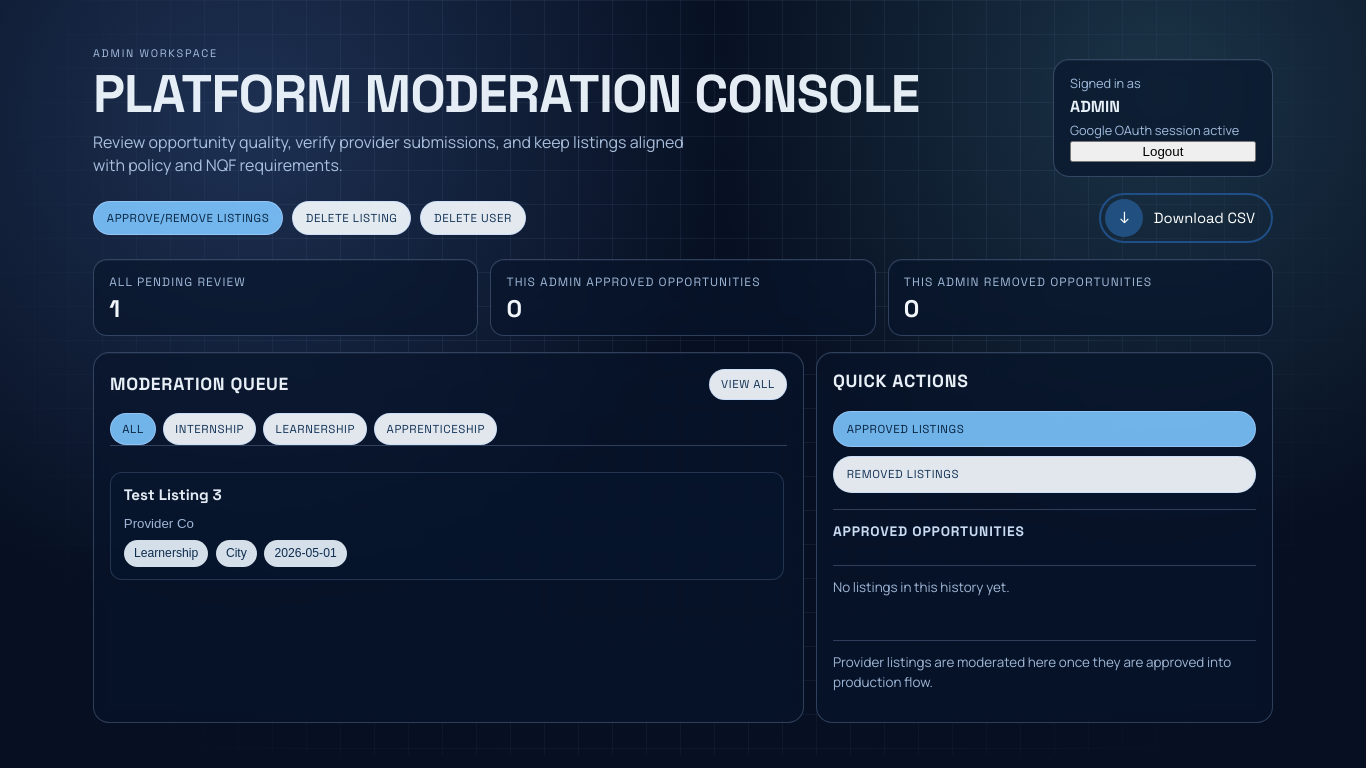
Test: Admin moderation queue TDD tests › 19. clicking outside modal (overlay) closes the modal
Note: Click on listing to open first modal
Step 1. Click the heading "Test Listing 3" → [173, 494], box left=124, top=485, right=222, bottom=504
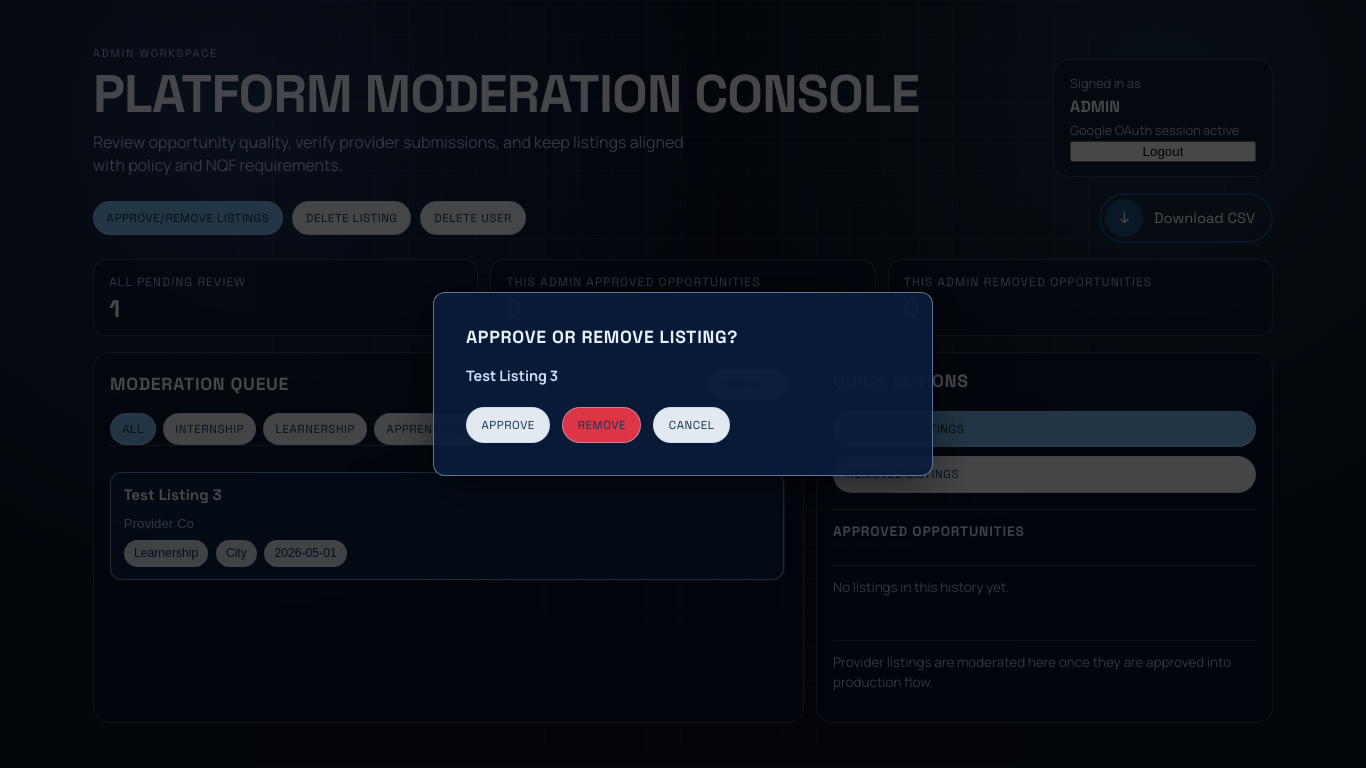
Expected: the text "Approve or Remove Listing?" is shown, left=466, top=326, right=738, bottom=348
Note: Click outside the modal (on the overlay)
Step 2. Click the element that starts with "Approve or Remove Listing?" → [82, 384], box left=0, top=0, right=1365, bottom=767
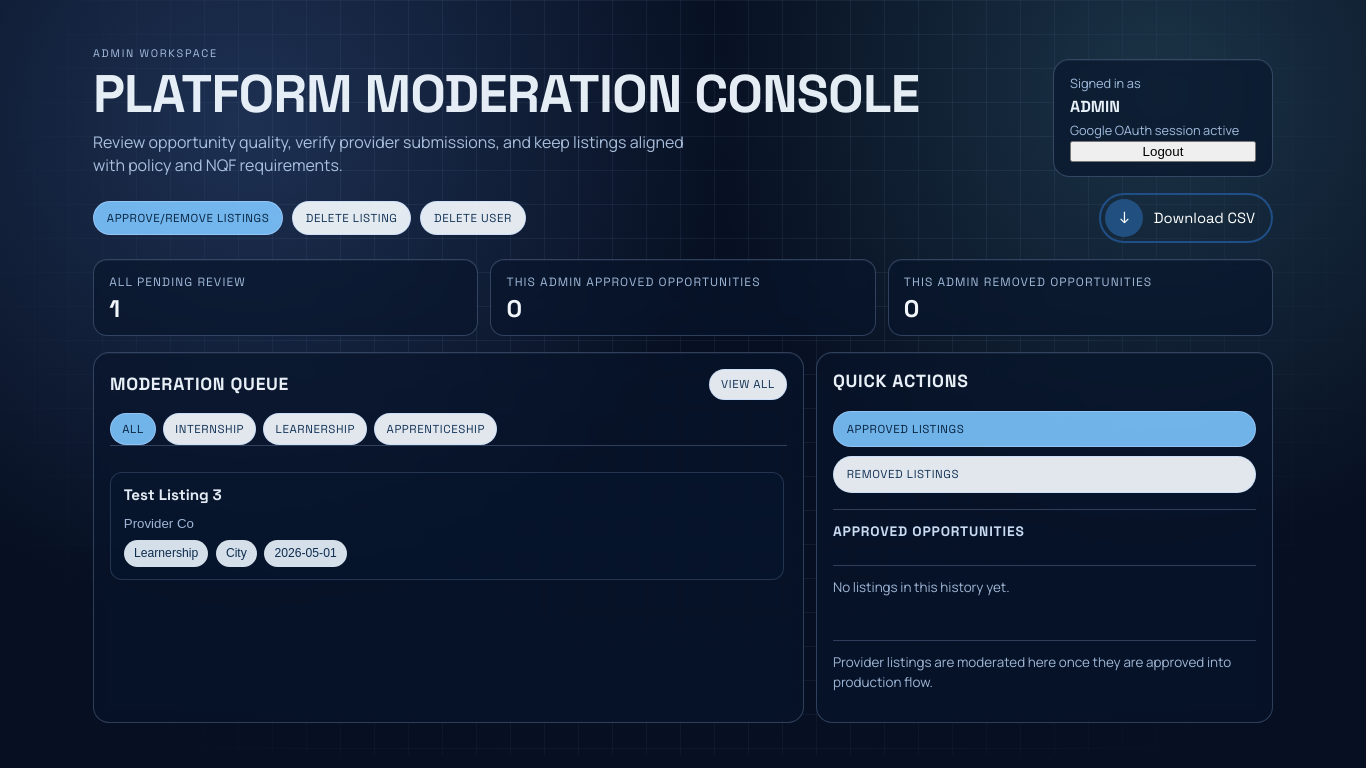
Expected: the heading "Approve or Remove Listing" is gone
